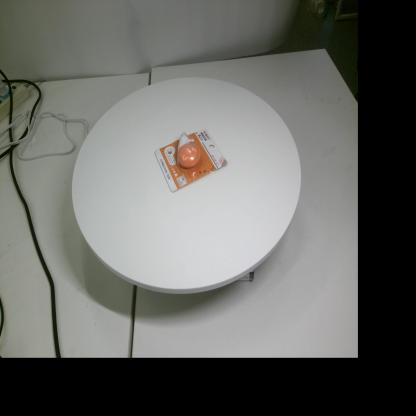Stationery: (154, 129, 228, 192)
